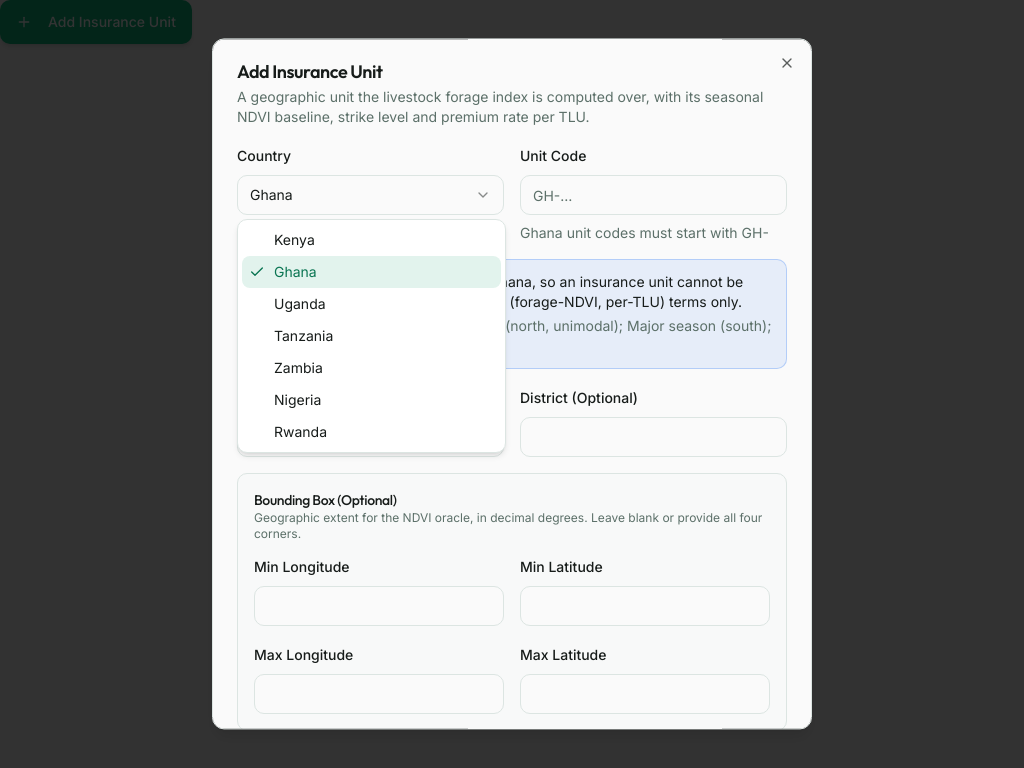
CreateInsuranceUnitDialog › clears the Kenyan defaults on the way to Ghana and restores them on the way back
This screenshot has width=1024, height=768.
Earlier steps of the test are not shown.
Click the option "Kenya" at (294, 240), box [274,231,315,248]
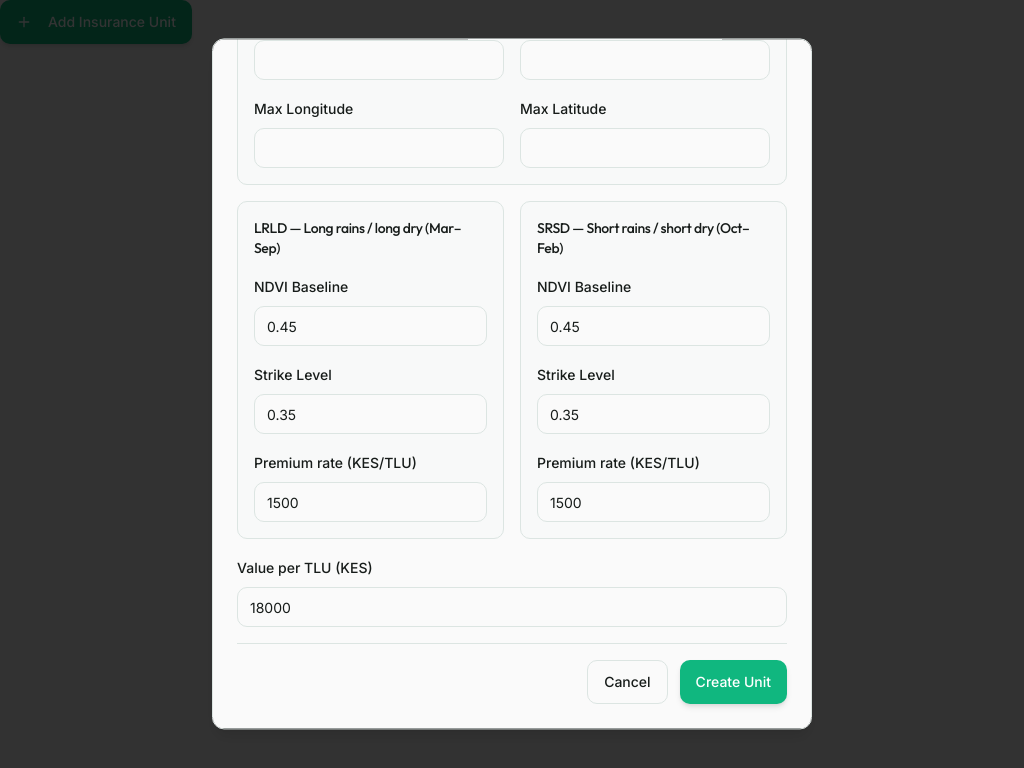
Now the number field labelled "Value per TLU (KES)" holds "18000", box [237,587,787,627]
Now the number field labelled "Premium rate (KES/TLU)" below "LRLD — Long rains / long dry (Mar–Sep)" holds "1500", box [254,482,487,522]
